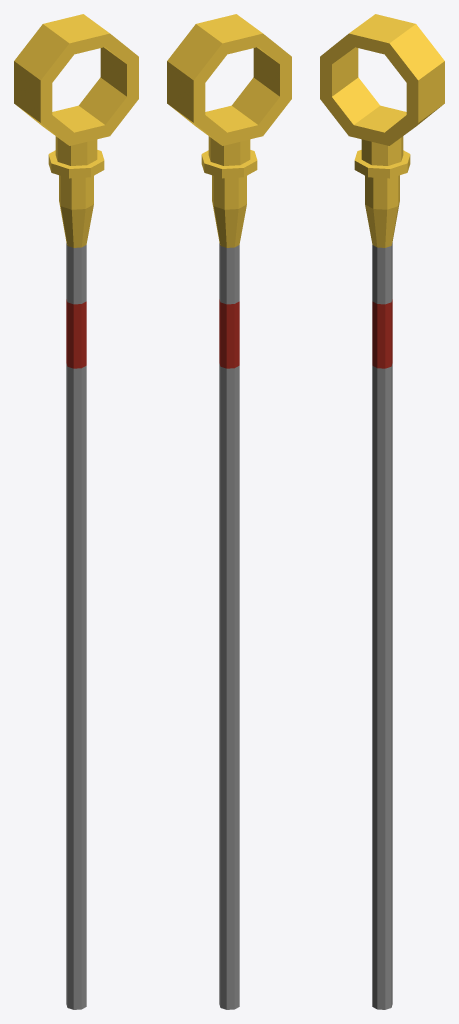
Rendered from OliePeil_Edited.fbx.
The picture shows the model from 3 angles, left to right: view 1: azimuth 30°, elevation 25°; view 2: azimuth 210°, elevation 25°; view 3: azimuth 330°, elevation 25°; orthographic projection.
Parts seen in each view (by area): view 1: OliePeil; view 2: OliePeil; view 3: OliePeil.
Part boxes in pixels (left/top/right/bottom): OliePeil: left=14, top=14, right=138, bottom=1009; OliePeil: left=167, top=14, right=291, bottom=1009; OliePeil: left=320, top=14, right=444, bottom=1009.
Bounding box in the file's own units: 1.43 × 13.57 × 0.7295.
